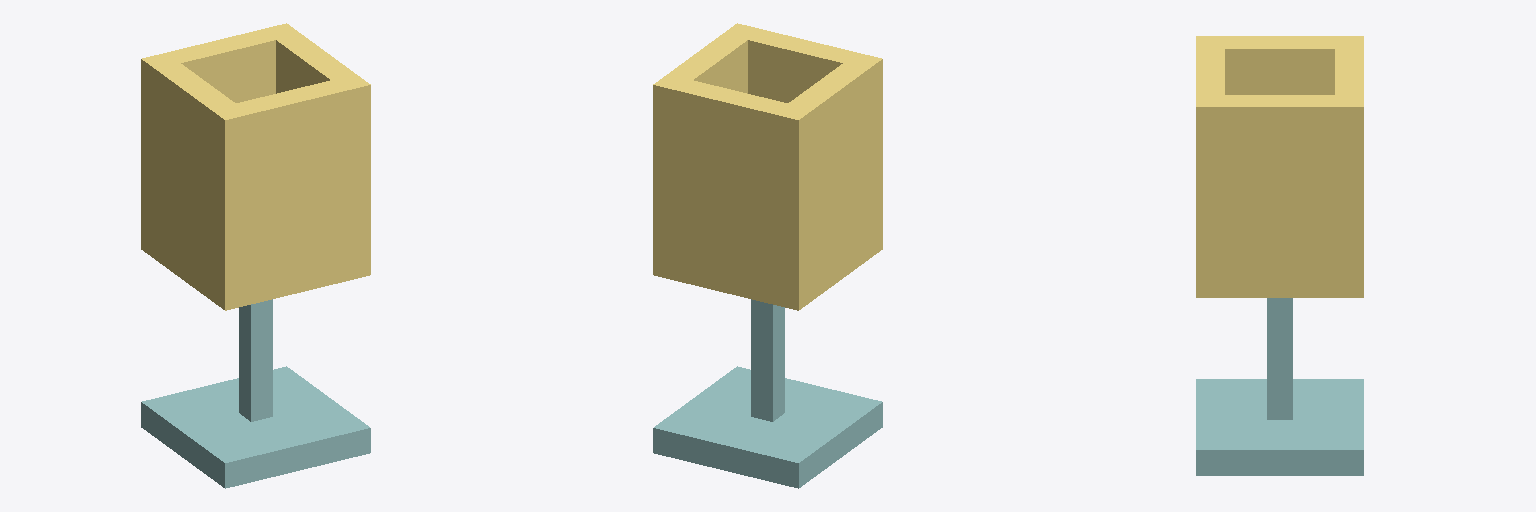
Rendered from lampSquareTable.obj.
3 renders of one model, left to right at view 1: azimuth 30°, elevation 25°; view 2: azimuth 150°, elevation 25°; view 3: azimuth 270°, elevation 25°, orthographic.
Visible parts, largest first — view 1: lampSquareTable; view 2: lampSquareTable; view 3: lampSquareTable.
Boxes of the visible parts, x1,y1,x2,y2 form: lampSquareTable: [141, 23, 370, 488]; lampSquareTable: [653, 23, 882, 488]; lampSquareTable: [1196, 36, 1363, 475].
Size of the model in its own units: 1.2 by 2.9 by 1.2.